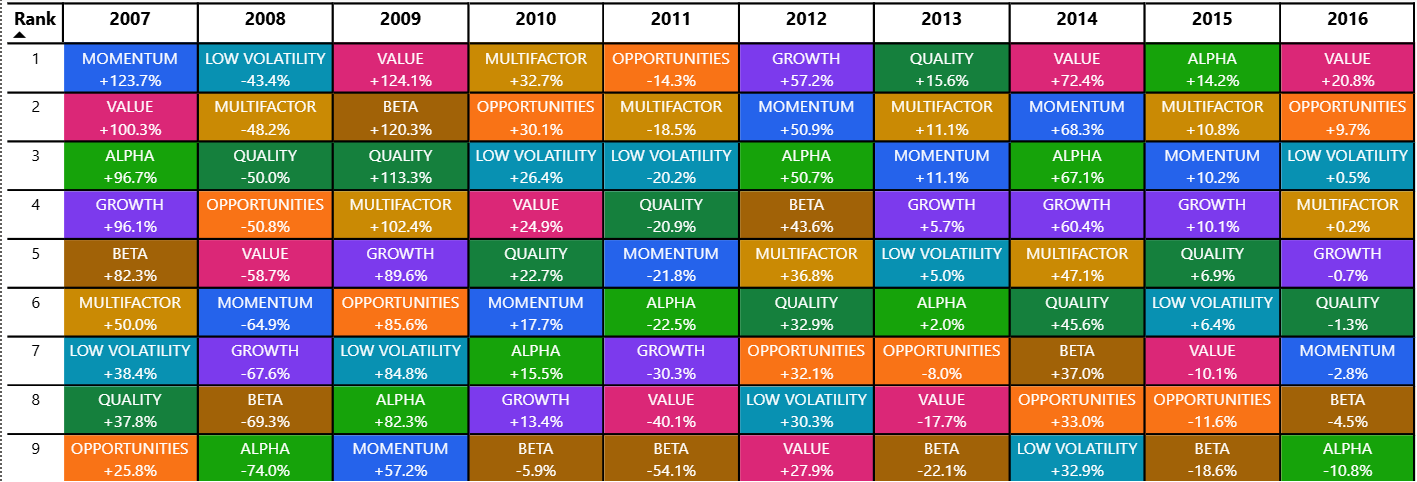

Layout of this report page (visuals, bound fields, positions):
{"tool":"powerbi","page":{"name":"All sector 2006-26","canvas":[1280,720],"ordinal":0},"visuals":[{"type":"pivotTable","fields":{"Rows":["Rank Table.Rank"],"Columns":["Date Table.Year"],"Values":["Combine Data.Sector Return Label"]},"box":[0,0,1280.4,720.2],"z":0}]}

Visuals, with their boxes on the page's 1280x720 design canvas (x1, y1, x2, y2). These are canvas units, not pixel positions in the 1417x482 screenshot, which may show the page scaled, cropped or inside an application window:
pivotTable - Rank Table.Rank x Date Table.Year: 0,0,1280,720
